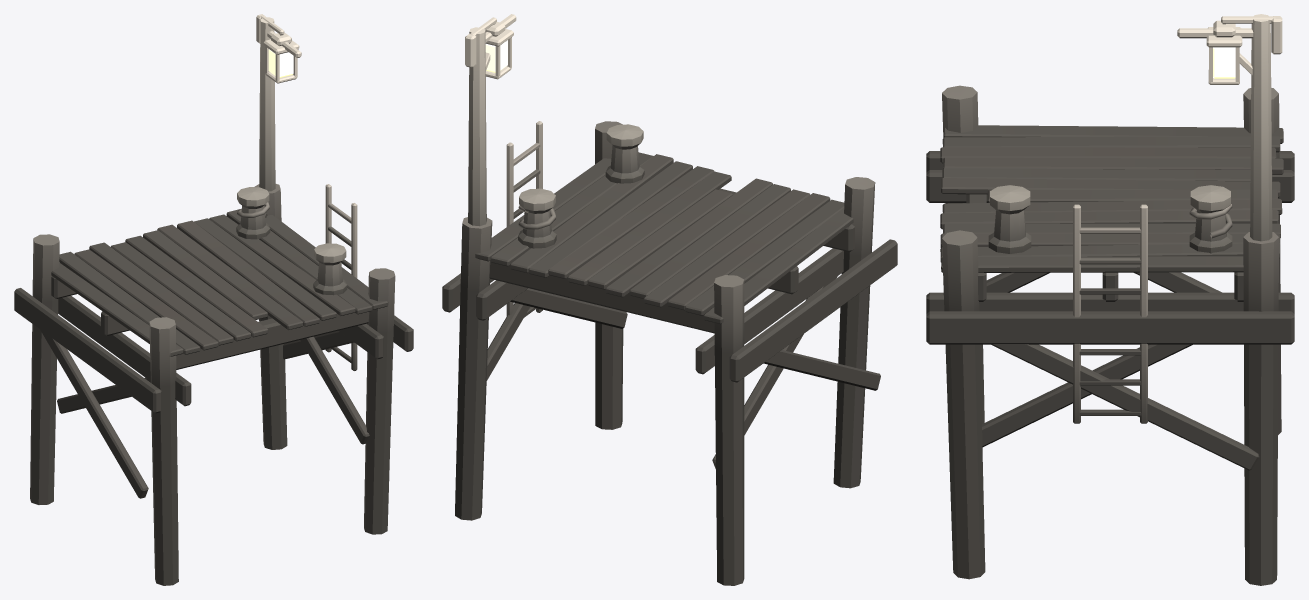
File: SM_VK_Pier_End.fbx
3 renders of one model, left to right at view 1: azimuth 30°, elevation 25°; view 2: azimuth 150°, elevation 25°; view 3: azimuth 270°, elevation 25°, orthographic. The views are drawn at different scales.
Visible parts, largest first — view 1: SM_VK_Pier_End.001; view 2: SM_VK_Pier_End.001; view 3: SM_VK_Pier_End.001.
Boxes of the visible parts, <box> form: SM_VK_Pier_End.001: <box>14,14,413,585</box>; SM_VK_Pier_End.001: <box>442,14,897,585</box>; SM_VK_Pier_End.001: <box>926,14,1294,585</box>.
Bounding box in the file's own units: 3.52 × 5.52 × 3.3.
